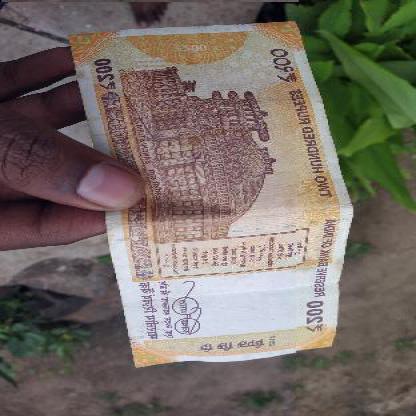New200Back: (74, 25, 350, 367)
